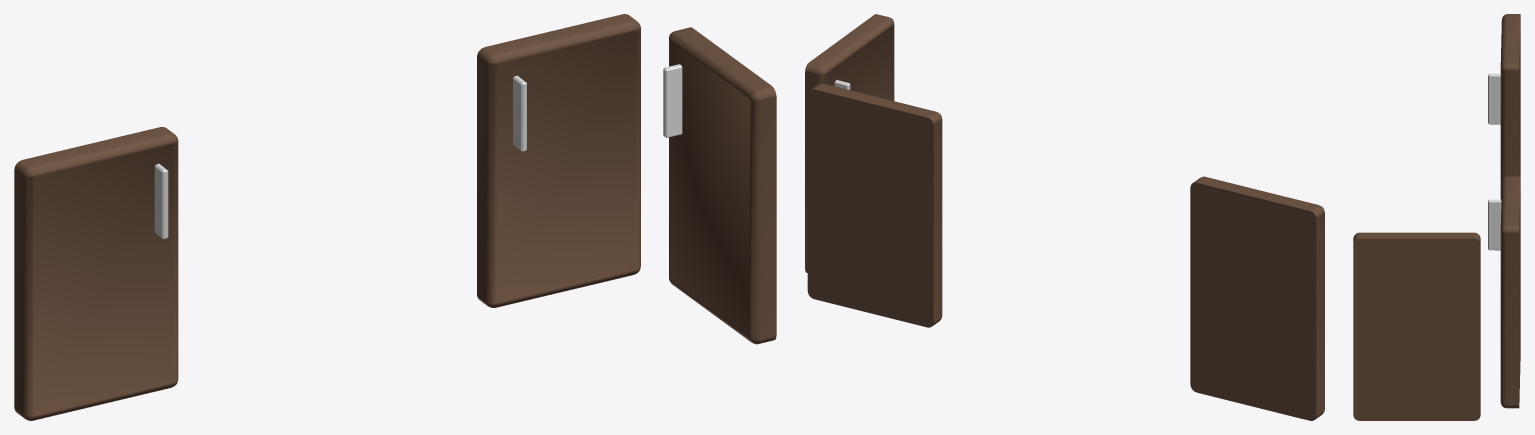
File: K-counter doors.fbx
3 views of the same model, side by side, from view 1: azimuth 30°, elevation 25°; view 2: azimuth 150°, elevation 25°; view 3: azimuth 270°, elevation 25° (orthographic). The views are drawn at different scales.
Parts seen in each view (by area): view 1: pCube2.002, pCube2.001, pCube2, pCube3, pCube3.002, pCube3.001; view 2: pCube2.001, pCube2.002, pCube2; view 3: pCube2, pCube2.001, pCube2.002, pCube3.001, pCube3.002.
Part boxes in pixels (x1,y1,x2,y2): pCube2.002: (14,127,178,420); pCube2.001: (477,14,640,307); pCube2: (669,27,776,344); pCube3: (663,64,682,137); pCube3.002: (154,163,168,239); pCube3.001: (513,75,526,151); pCube2.001: (807,83,942,327); pCube2.002: (1190,176,1324,420); pCube2: (805,14,894,272); pCube2: (1353,232,1480,420); pCube2.001: (1500,176,1520,408); pCube2.002: (1500,14,1520,199); pCube3.001: (1488,199,1501,250); pCube3.002: (1488,73,1500,124).
Bounding box in the file's own units: 372 × 140 × 116.
